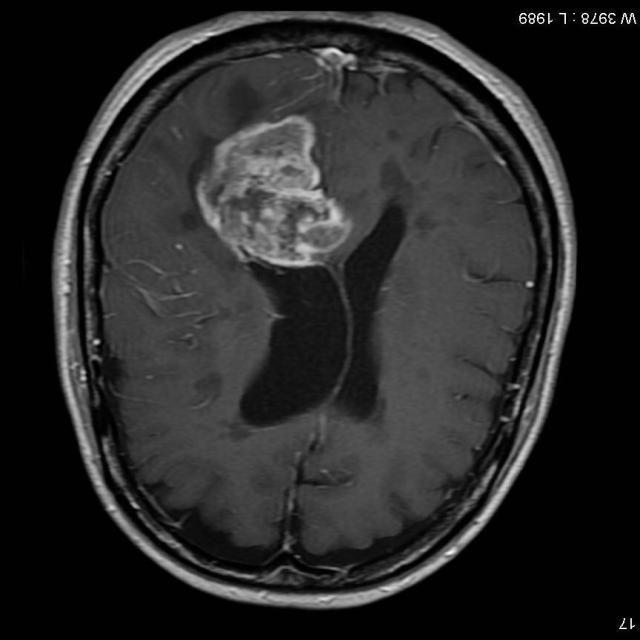brain tumor: (190, 114, 353, 270)
